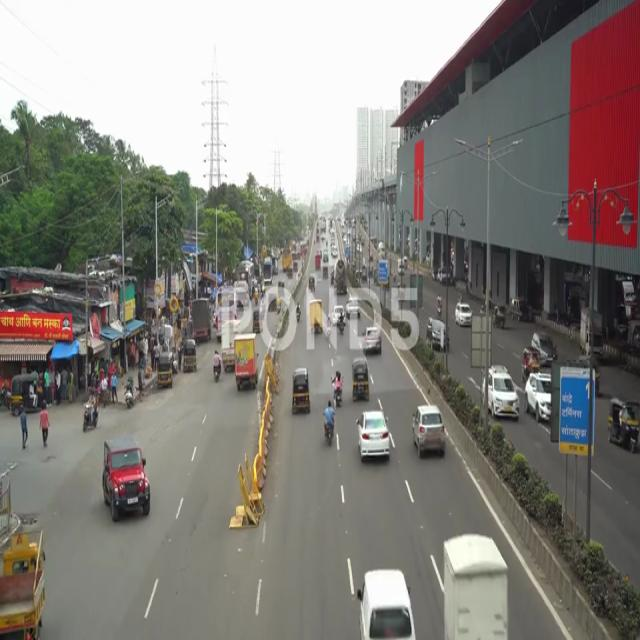car: (102, 438, 155, 524), (411, 404, 449, 462), (355, 408, 391, 463), (492, 367, 520, 421)
motorbike: (322, 401, 334, 452)
rikshaw: (606, 392, 640, 456), (292, 368, 312, 415)
truck: (439, 534, 512, 640), (0, 516, 54, 639)
